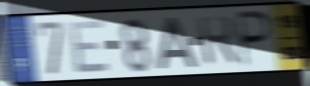7: (35, 21, 64, 77)
8: (118, 14, 153, 74)
A: (156, 16, 199, 71)
E: (68, 18, 112, 75)
P: (237, 9, 275, 69)
R: (196, 14, 241, 68)
